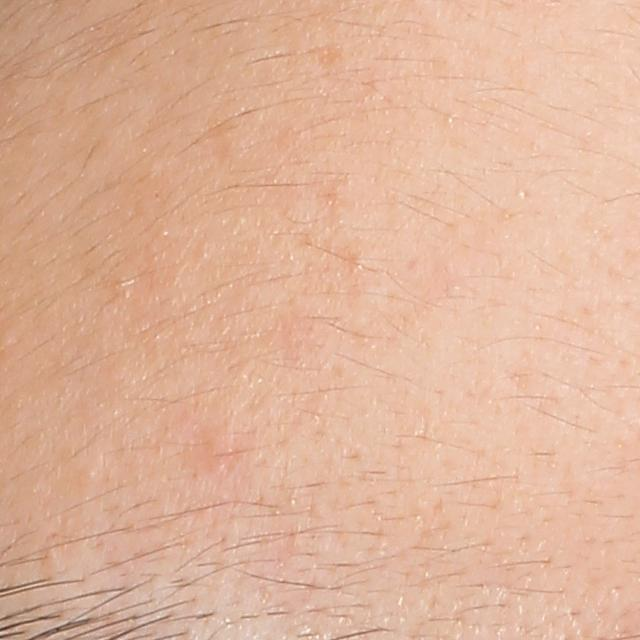comedo: (108, 275, 134, 297)
